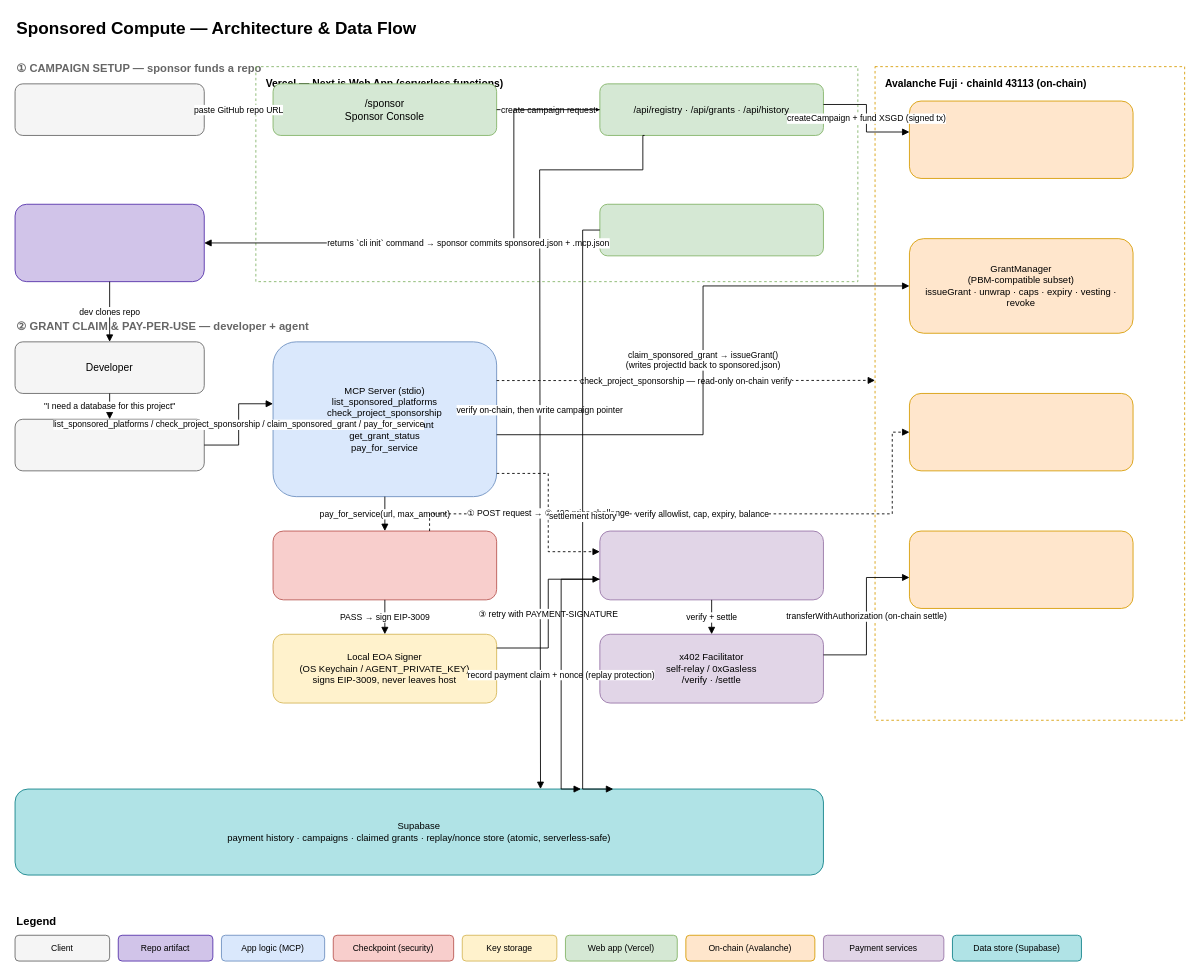
This 1200x976 diagram has some shape labels left out. Each missing label, with the centre of its shape:
/merchant Merchant Dashboard: (711,229)
AI Coding Agent (Claude Code / Codex): (109,444)
Checkpoint (off-LLM policy enforcement) never exposed as a callable tool: (384,565)
GitHub Repo sponsored.json + .mcp.json: (109,242)
Merchant API x402-protected (e.g. SupaDB /api/v1/query): (711,565)
MerchantRegistry merchant allowlist, payTo per project: (1021,432)
Sponsor (browser wallet): (109,109)
SponsorPool fund · createCampaign · pause: (1021,139)
XSGD (ERC-20) transferWithAuthorization (EIP-3009): (1021,569)
